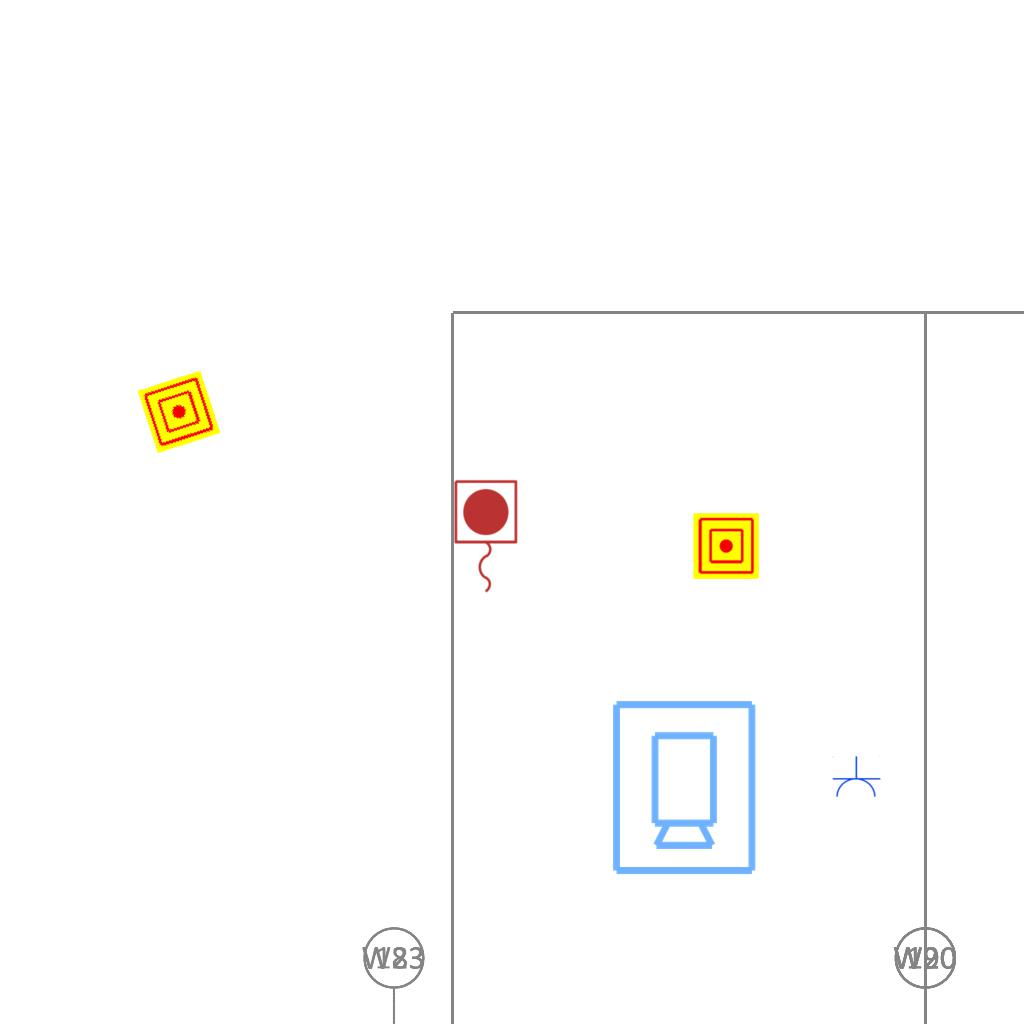KFO_Kamera_mit_Festobjektiv: (606, 696, 760, 878)
NAM-Nichtautomatischer_Melder: (137, 370, 221, 454), (693, 513, 759, 579)
Schukosteckdose_einfach: (831, 756, 881, 799)
Zugtaster: (449, 476, 521, 598)
